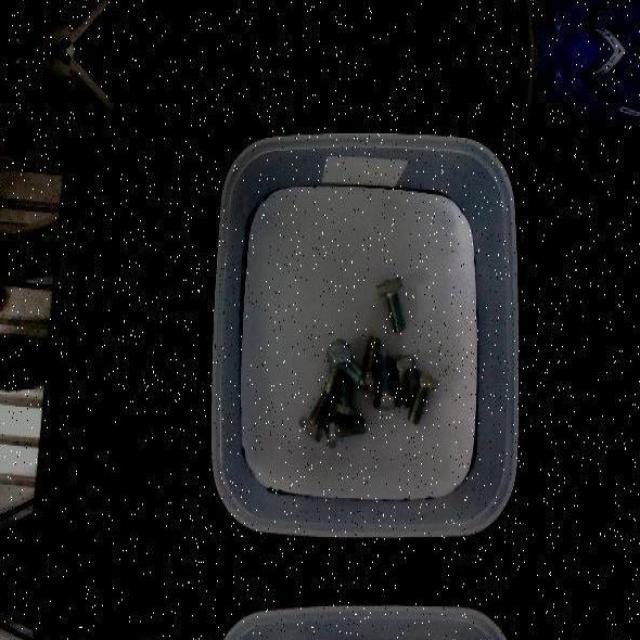screw: (406, 366, 438, 426), (297, 389, 332, 442), (377, 276, 407, 332), (372, 352, 400, 409), (388, 354, 416, 408), (323, 414, 367, 446), (326, 337, 350, 392)
